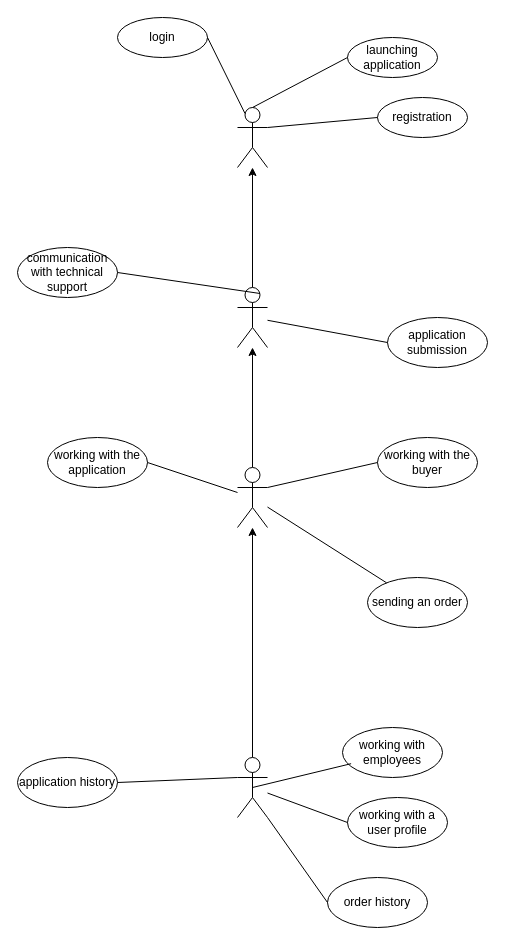
Image size: 505x945. Some labels were removed from this diagram. Here are the shapes that lost their labels. From the top down, the box of each, then its label:
(236, 106, 268, 168): user
(236, 286, 268, 348): authorized user
(236, 466, 268, 528): manger
(236, 756, 268, 818): Administrator
